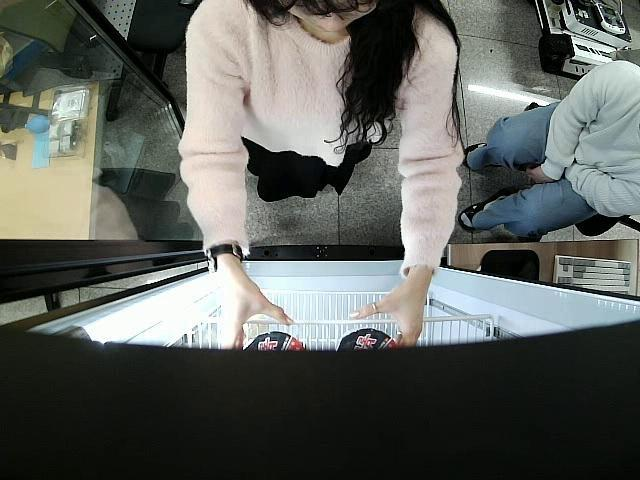08_buldak_S: (331, 330, 404, 352), (239, 330, 307, 350)
